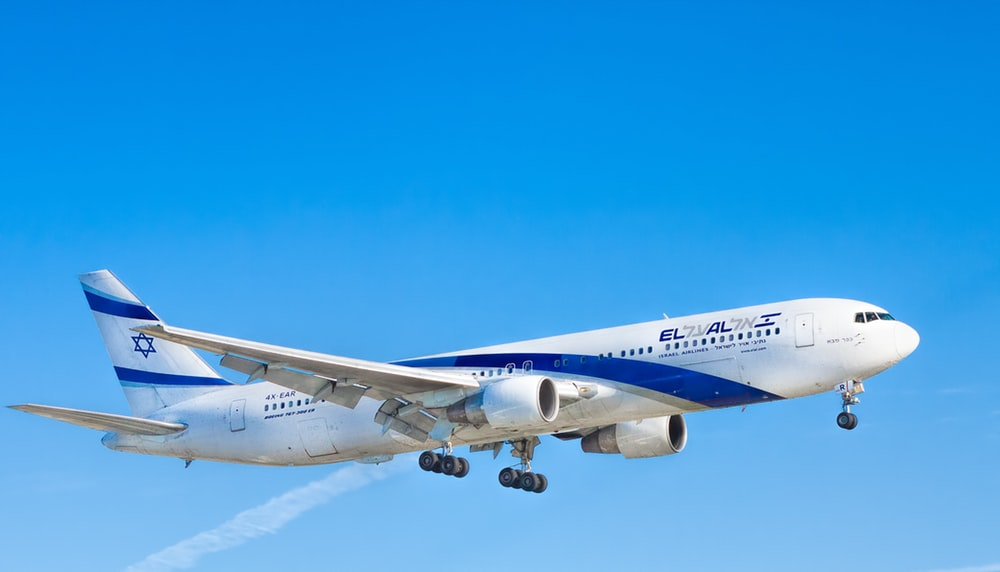aeroplane: (11, 226, 923, 505)
